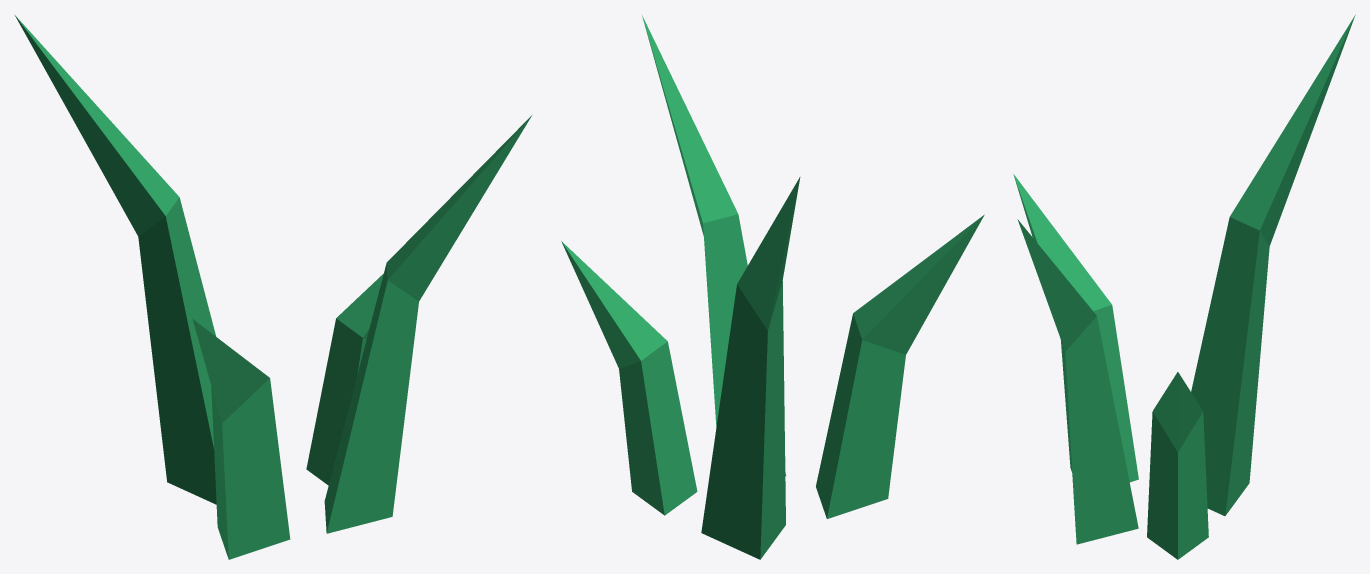
Rendered from grass2.gltf.
3 renders of one model, left to right at view 1: azimuth 30°, elevation 25°; view 2: azimuth 150°, elevation 25°; view 3: azimuth 270°, elevation 25°, orthographic. The views are drawn at different scales.
Visible parts, largest first — view 1: Circle.005; view 2: Circle.005; view 3: Circle.005.
Boxes of the visible parts, x1,y1,x2,y2 form: Circle.005: (14,14,531,559); Circle.005: (561,15,984,559); Circle.005: (1013,15,1355,559).
Bounding box in the file's own units: 40.77 × 51.22 × 37.46.
